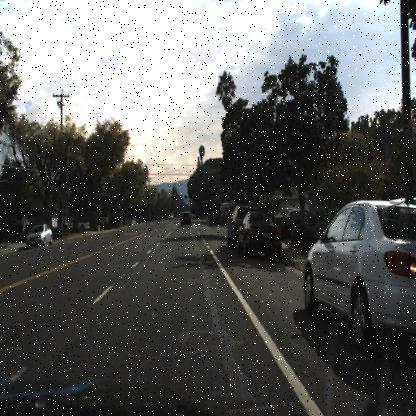car: (303, 198, 415, 350), (234, 206, 284, 263), (239, 209, 283, 262), (24, 222, 53, 249), (226, 200, 241, 251), (59, 216, 95, 234), (177, 207, 195, 230), (208, 211, 220, 229)
